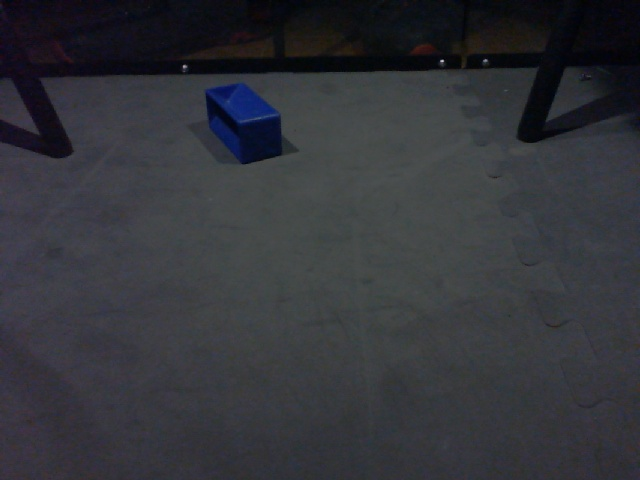BlueSample: (203, 82, 286, 166)
